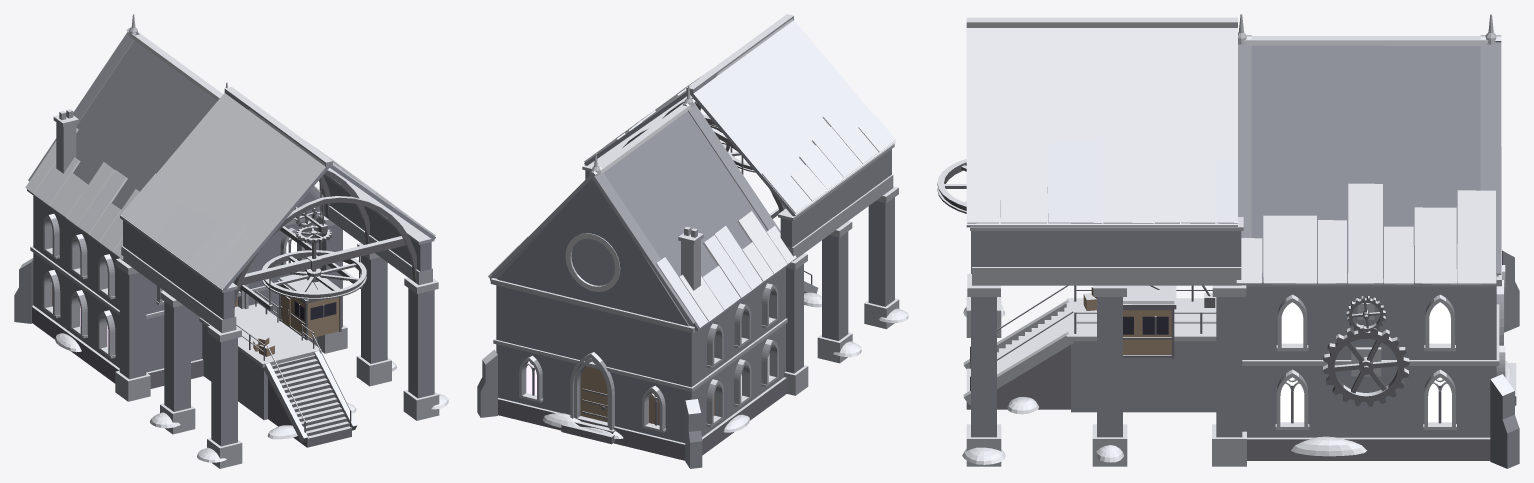
The model's file is AR_Estacao_Teleferico.fbx.
The picture shows the model from 3 angles, left to right: view 1: azimuth 30°, elevation 25°; view 2: azimuth 150°, elevation 25°; view 3: azimuth 270°, elevation 25°; orthographic projection. The views are drawn at different scales.
Visible parts, largest first — view 1: AR_Estacao_Teleferico; view 2: AR_Estacao_Teleferico; view 3: AR_Estacao_Teleferico.
Boxes of the visible parts, box(x1,y1,x2,y2) form: AR_Estacao_Teleferico: box(14, 14, 448, 468); AR_Estacao_Teleferico: box(477, 14, 908, 468); AR_Estacao_Teleferico: box(937, 14, 1519, 468).
Bounding box in the file's own units: 17.62 × 19.34 × 26.81.
